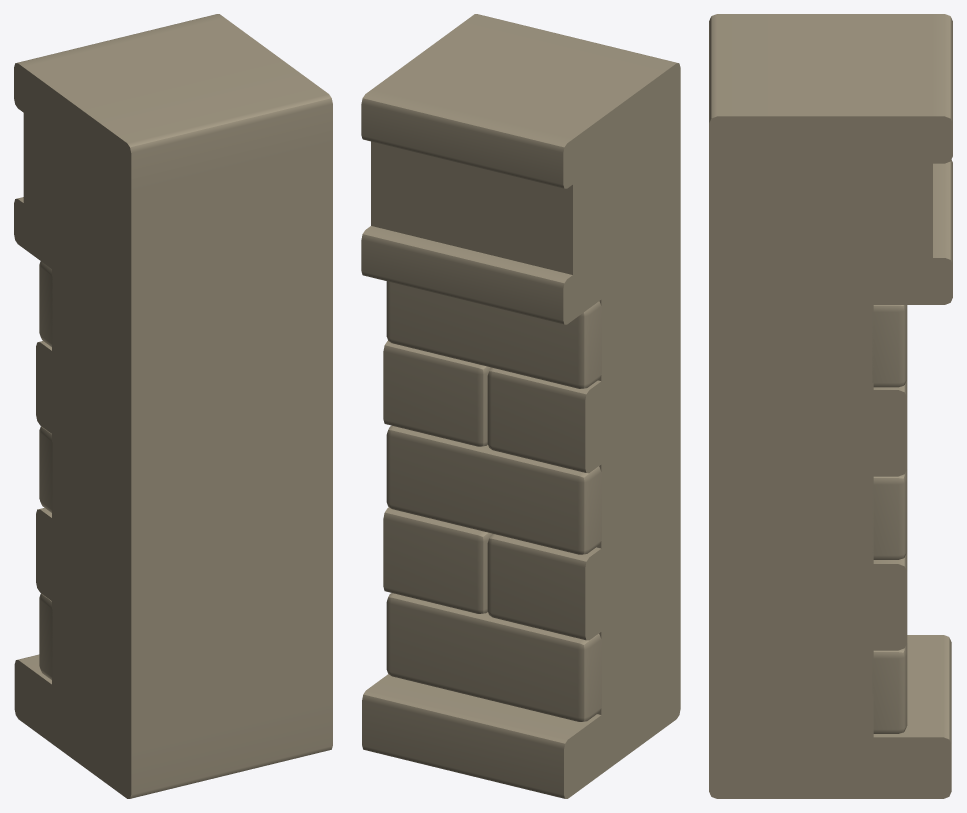
The model's file is Wall_001.fbx.
3 renders of one model, left to right at view 1: azimuth 30°, elevation 25°; view 2: azimuth 150°, elevation 25°; view 3: azimuth 270°, elevation 25°, orthographic. The views are drawn at different scales.
Visible parts, largest first — view 1: Wall_001; view 2: Wall_001; view 3: Wall_001.
Part boxes in pixels (left/top/right/bottom): Wall_001: left=14, top=14, right=332, bottom=798; Wall_001: left=361, top=14, right=680, bottom=798; Wall_001: left=709, top=14, right=952, bottom=798.
Size of the model in its own units: 1 by 3.11 by 1.01.
